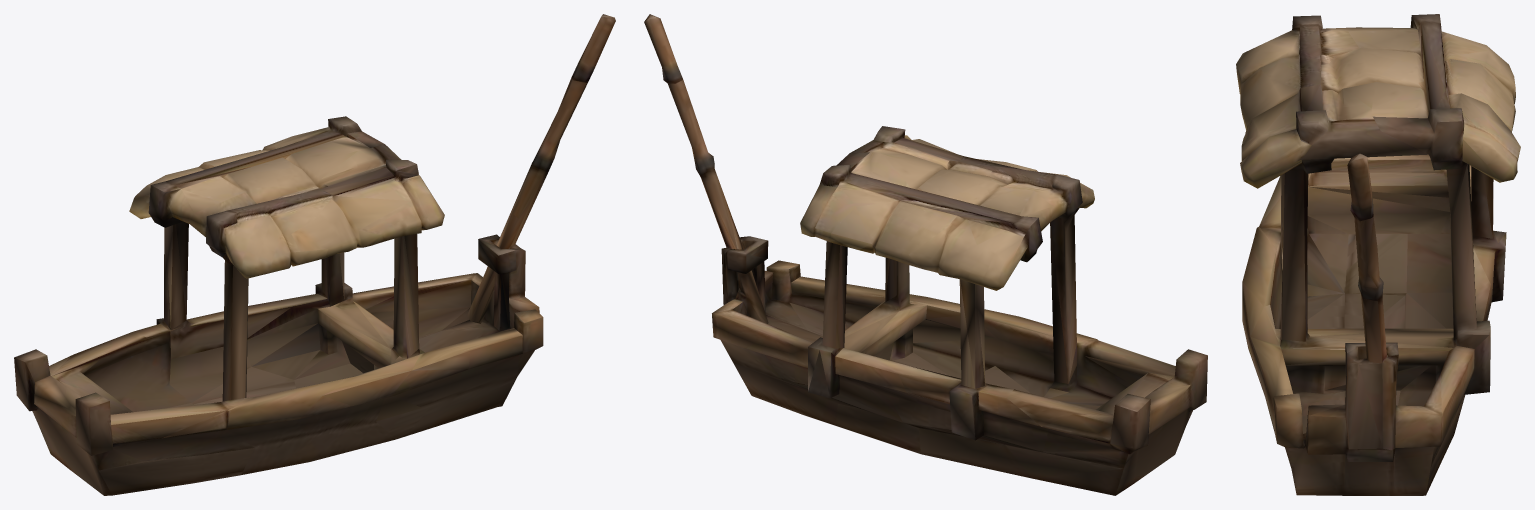
Rendered from boat.glb.
The picture shows the model from 3 angles, left to right: view 1: azimuth 30°, elevation 25°; view 2: azimuth 150°, elevation 25°; view 3: azimuth 270°, elevation 25°; orthographic projection. The views are drawn at different scales.
Visible parts, largest first — view 1: tripo_node_25d155be-f787-4733-9814-b8dc1e2aee1f; view 2: tripo_node_25d155be-f787-4733-9814-b8dc1e2aee1f; view 3: tripo_node_25d155be-f787-4733-9814-b8dc1e2aee1f.
Boxes of the visible parts, bbox=[...] form: tripo_node_25d155be-f787-4733-9814-b8dc1e2aee1f: bbox=[14, 14, 615, 495]; tripo_node_25d155be-f787-4733-9814-b8dc1e2aee1f: bbox=[644, 14, 1207, 495]; tripo_node_25d155be-f787-4733-9814-b8dc1e2aee1f: bbox=[1236, 14, 1520, 495].
Size of the model in its own units: 0.9802 by 0.5746 by 0.3554.
1 material, 1 textured.
